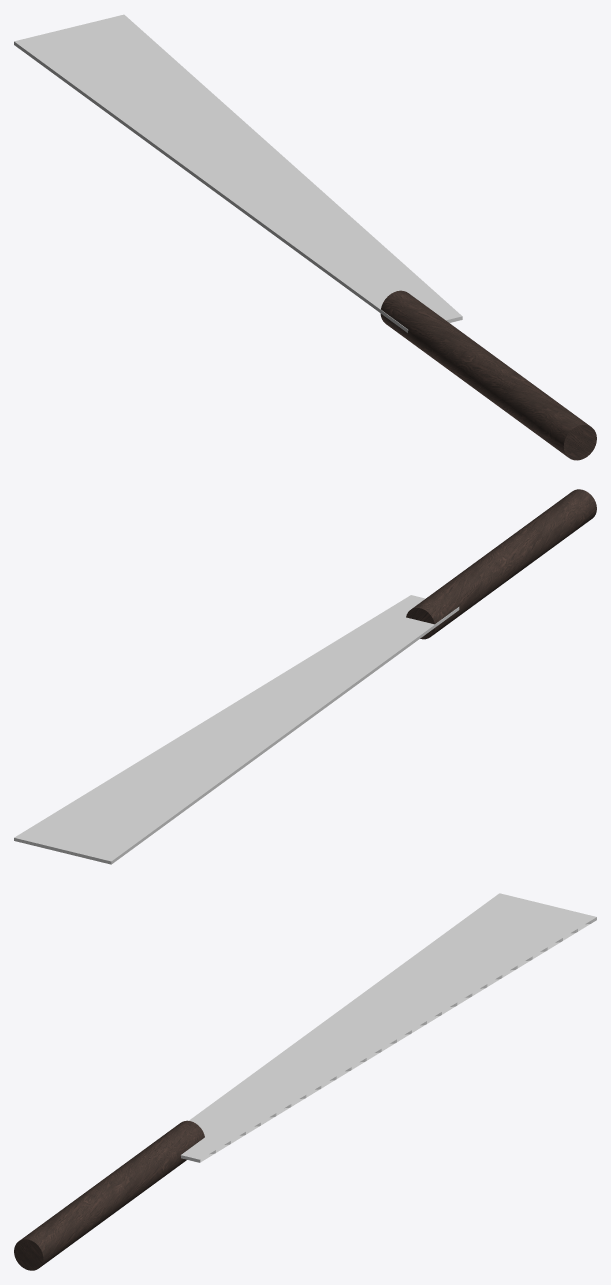
The model's file is のこぎり.fbx.
The picture shows the model from 3 angles, top to bottom: view 1: azimuth 30°, elevation 25°; view 2: azimuth 150°, elevation 25°; view 3: azimuth 330°, elevation 25°; orthographic projection. The views are drawn at different scales.
Parts seen in each view (by area): view 1: Plane, Cylinder; view 2: Plane, Cylinder; view 3: Plane, Cylinder.
Boxes of the visible parts, x1,y1,x2,y2 form: Plane: (14,14,462,332); Cylinder: (380,290,596,460); Plane: (14,595,459,864); Cylinder: (406,489,596,639); Plane: (180,893,596,1162); Cylinder: (14,1120,204,1270).
Bounding box in the file's own units: 32.33 × 9.74 × 279.
